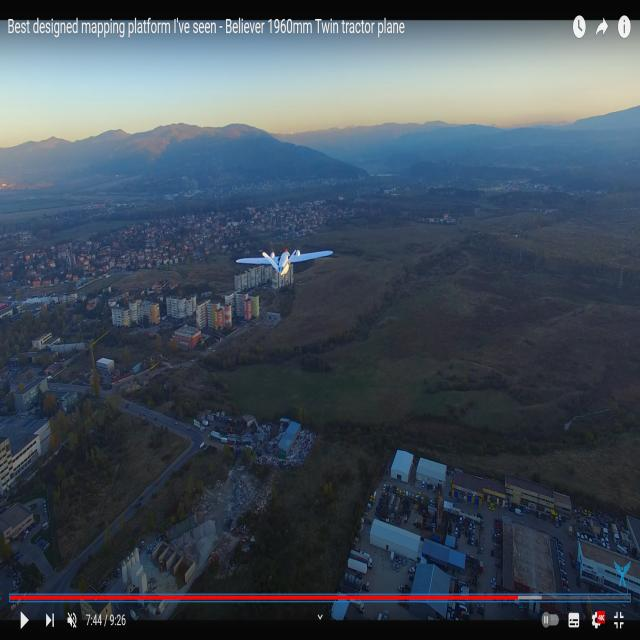iha: (270, 246, 299, 277)
